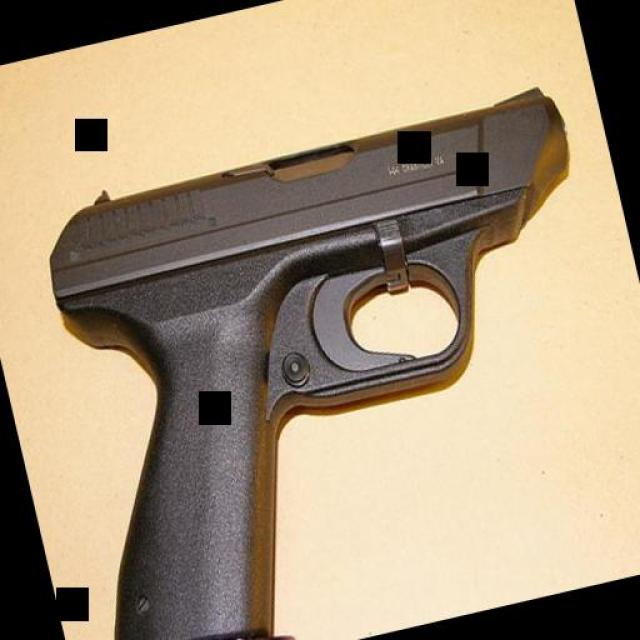gun: (10, 79, 640, 640)
